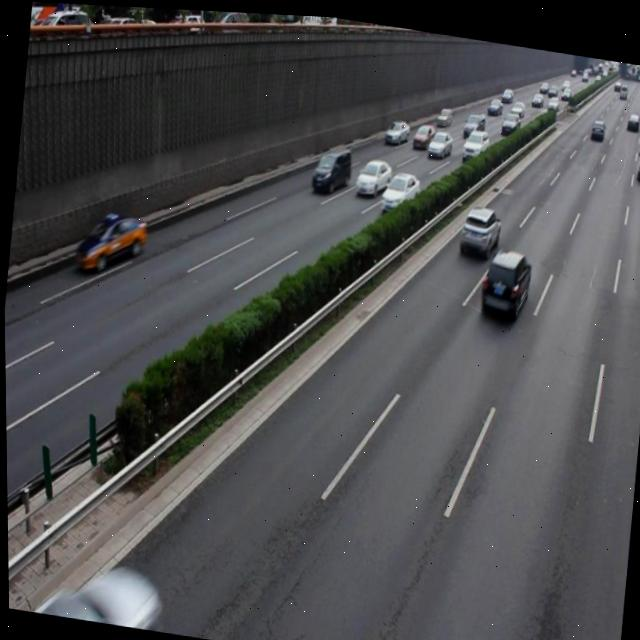car: (73, 204, 148, 277), (475, 239, 531, 315), (454, 196, 500, 256), (377, 163, 420, 209), (352, 151, 391, 196)
truck: (307, 137, 352, 194)
